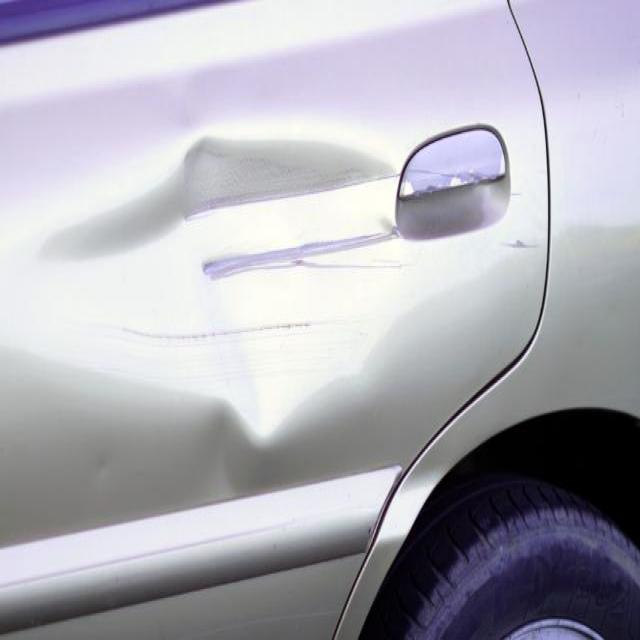Dent: (184, 164, 390, 219), (201, 606, 342, 632), (274, 254, 406, 270), (118, 323, 224, 340), (511, 239, 526, 246), (365, 524, 372, 536)
